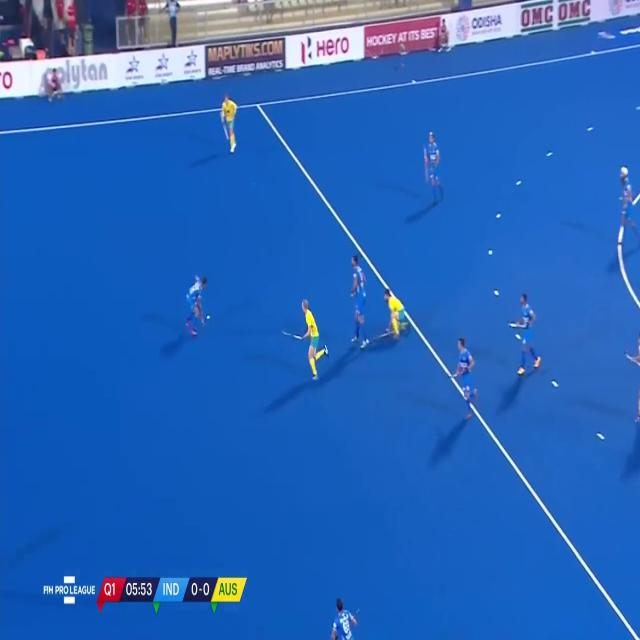ball: (204, 311, 212, 322)
